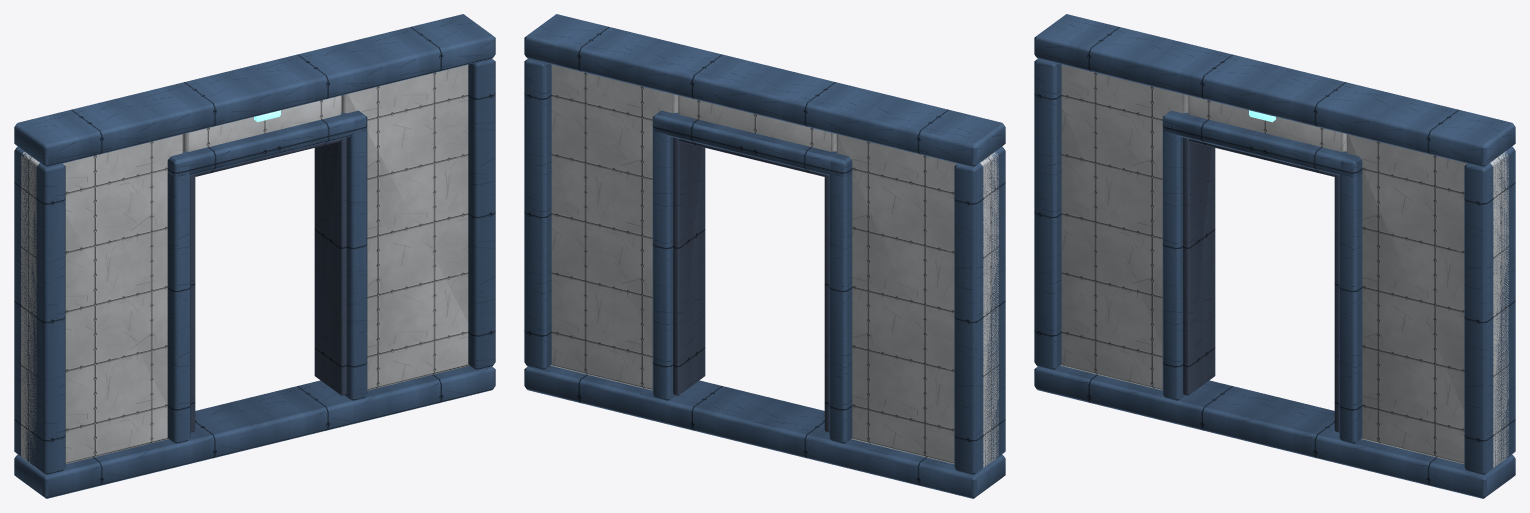
Rendered from door_frame.glb.
The picture shows the model from 3 angles, left to right: view 1: azimuth 30°, elevation 25°; view 2: azimuth 150°, elevation 25°; view 3: azimuth 330°, elevation 25°; orthographic projection.
Parts seen in each view (by area): view 1: door_frame_navy_frame, door_frame_hull_offwhite, door_frame_graphite_navy; view 2: door_frame_navy_frame, door_frame_hull_offwhite, door_frame_graphite_navy; view 3: door_frame_navy_frame, door_frame_hull_offwhite, door_frame_graphite_navy.
Part boxes in pixels (x1=…): door_frame_navy_frame: x1=14, y1=14, x2=495, y2=498; door_frame_hull_offwhite: x1=21, y1=64, x2=469, y2=467; door_frame_graphite_navy: x1=190, y1=137, x2=346, y2=432; door_frame_navy_frame: x1=524, y1=14, x2=1005, y2=498; door_frame_hull_offwhite: x1=550, y1=64, x2=998, y2=467; door_frame_graphite_navy: x1=673, y1=137, x2=829, y2=432; door_frame_navy_frame: x1=1034, y1=14, x2=1515, y2=498; door_frame_hull_offwhite: x1=1060, y1=64, x2=1508, y2=467; door_frame_graphite_navy: x1=1183, y1=137, x2=1339, y2=432.
Bounding box in the file's own units: 4 × 3 × 0.52.
4 materials, 3 textured.
